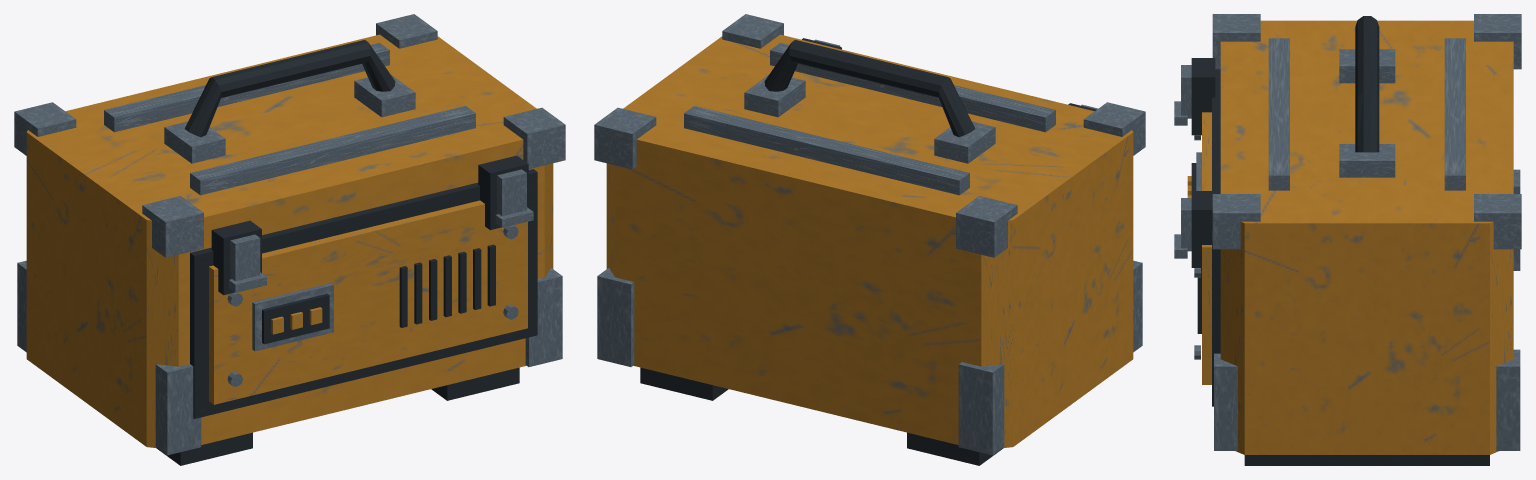
File: field-service-case.glb
3 renders of one model, left to right at view 1: azimuth 30°, elevation 25°; view 2: azimuth 150°, elevation 25°; view 3: azimuth 270°, elevation 25°, orthographic. The views are drawn at different scales.
Visible parts, largest first — view 1: paint, steel, rubber; view 2: paint, steel, rubber; view 3: paint, steel, rubber.
Boxes of the visible parts, left/top/right/bottom form: paint: left=26, top=34, right=553, bottom=448; steel: left=14, top=14, right=565, bottom=455; rubber: left=156, top=40, right=537, bottom=465; paint: left=606, top=34, right=1133, bottom=448; steel: left=594, top=14, right=1145, bottom=455; rubber: left=640, top=38, right=1096, bottom=465; paint: left=1187, top=20, right=1513, bottom=454; steel: left=1174, top=14, right=1521, bottom=450; rubber: left=1191, top=16, right=1489, bottom=465.
Bounding box in the file's own units: 1.8 × 1.36 × 1.31.
Materials: 3 (3 with a texture image).
